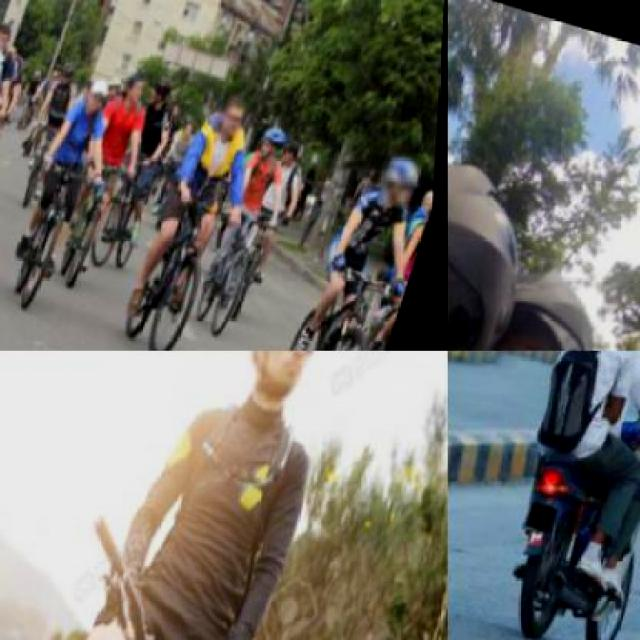With Helmet: (448, 123, 562, 349), (448, 240, 630, 349), (232, 351, 343, 411), (382, 142, 432, 209), (258, 115, 294, 153)
Without Helmet: (214, 87, 255, 141), (83, 70, 115, 118), (122, 68, 152, 98), (0, 29, 12, 83)
